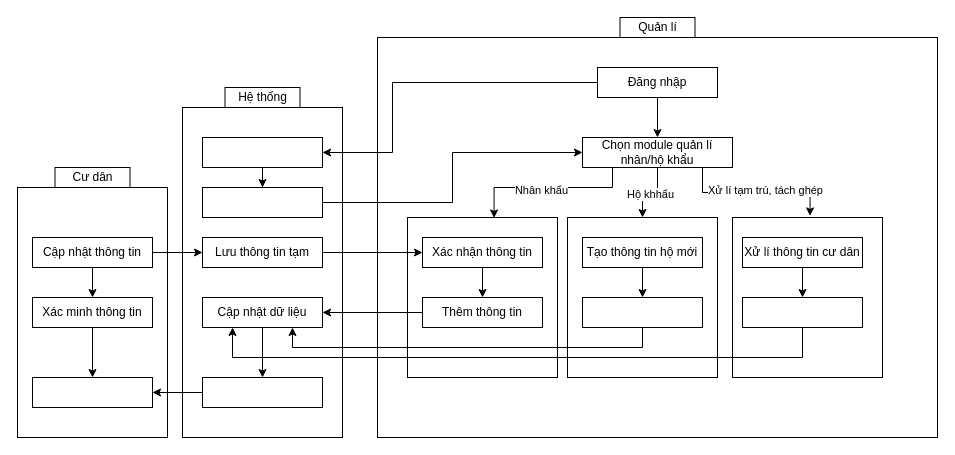
Some shapes in this 955 by 455 pixel diagram are drawn without their labels. The shapes that lost their labels are listed below. From the top down, each one's centre as x and y in pixels, then its label:
(x=262, y=152): Xác thực phân quyền
(x=262, y=202): Hiển thị giao diện
(x=642, y=312): Nhập thông tin nhân khẩu
(x=802, y=312): Xử lí
(x=92, y=392): Gửi trả thông tin
(x=262, y=392): Truy xuất dự liệu
